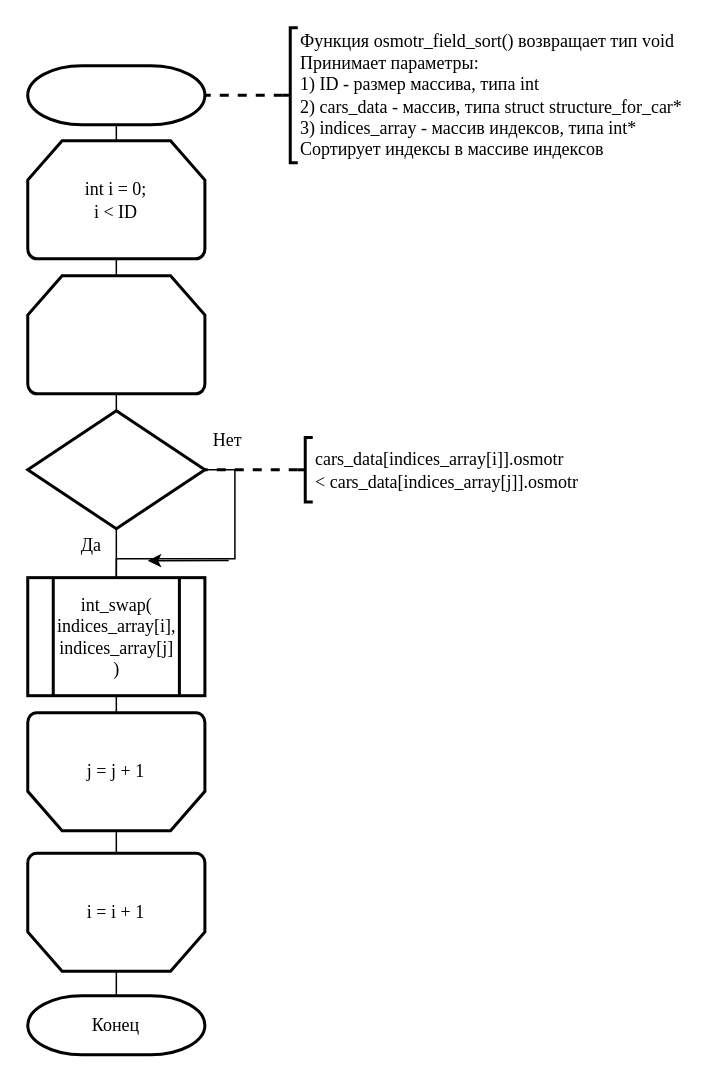
The diagram is 708 pixels wide and 1082 high, and some of its shapes have lost their labels. Here are the shapes that lost their labels. From the top down, the centre of each, then its label:
At (x=116, y=94): "void osmotr _field_sort".
At (x=116, y=333): "int j = 0; j < ID".
